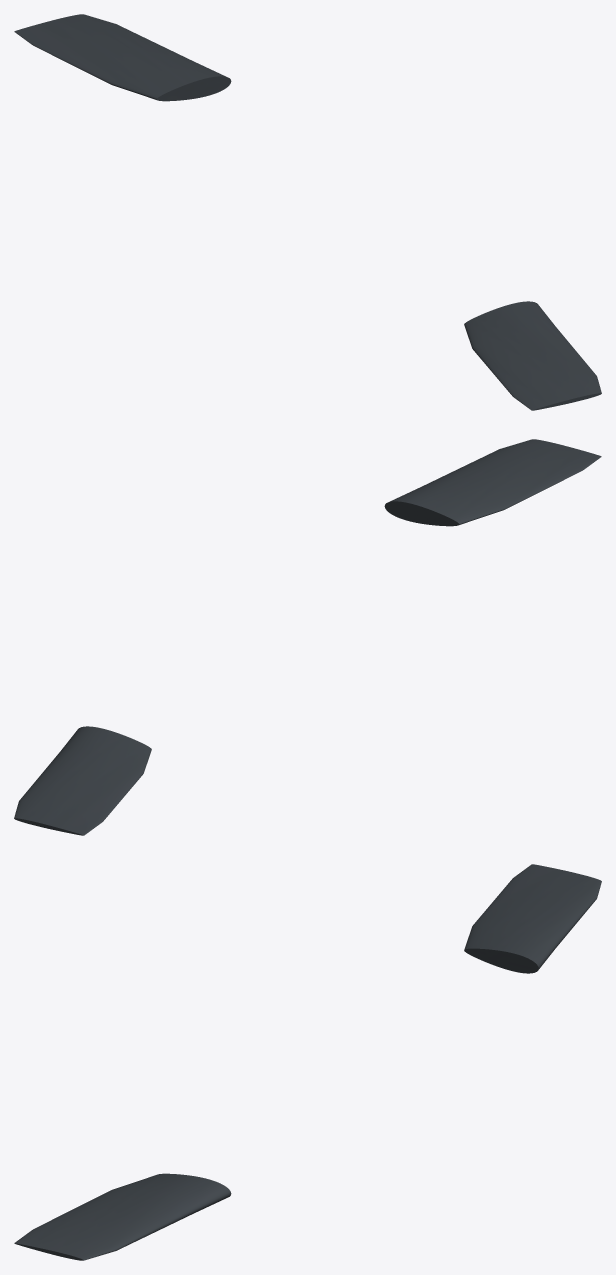
File: RU_SSN_Akula_BOWPLANES.fbx
3 renders of one model, top to bottom at view 1: azimuth 30°, elevation 25°; view 2: azimuth 150°, elevation 25°; view 3: azimuth 330°, elevation 25°, orthographic.
Visible parts, largest first — view 1: RU_SSN_Akula_BOWPLANES; view 2: RU_SSN_Akula_BOWPLANES; view 3: RU_SSN_Akula_BOWPLANES.
Boxes of the visible parts, left/top/right/bottom form: RU_SSN_Akula_BOWPLANES: left=14, top=14, right=601, bottom=410; RU_SSN_Akula_BOWPLANES: left=14, top=439, right=601, bottom=835; RU_SSN_Akula_BOWPLANES: left=14, top=864, right=601, bottom=1260.
Bounding box in the file's own units: 2.4 × 19.2 × 0.3698.
